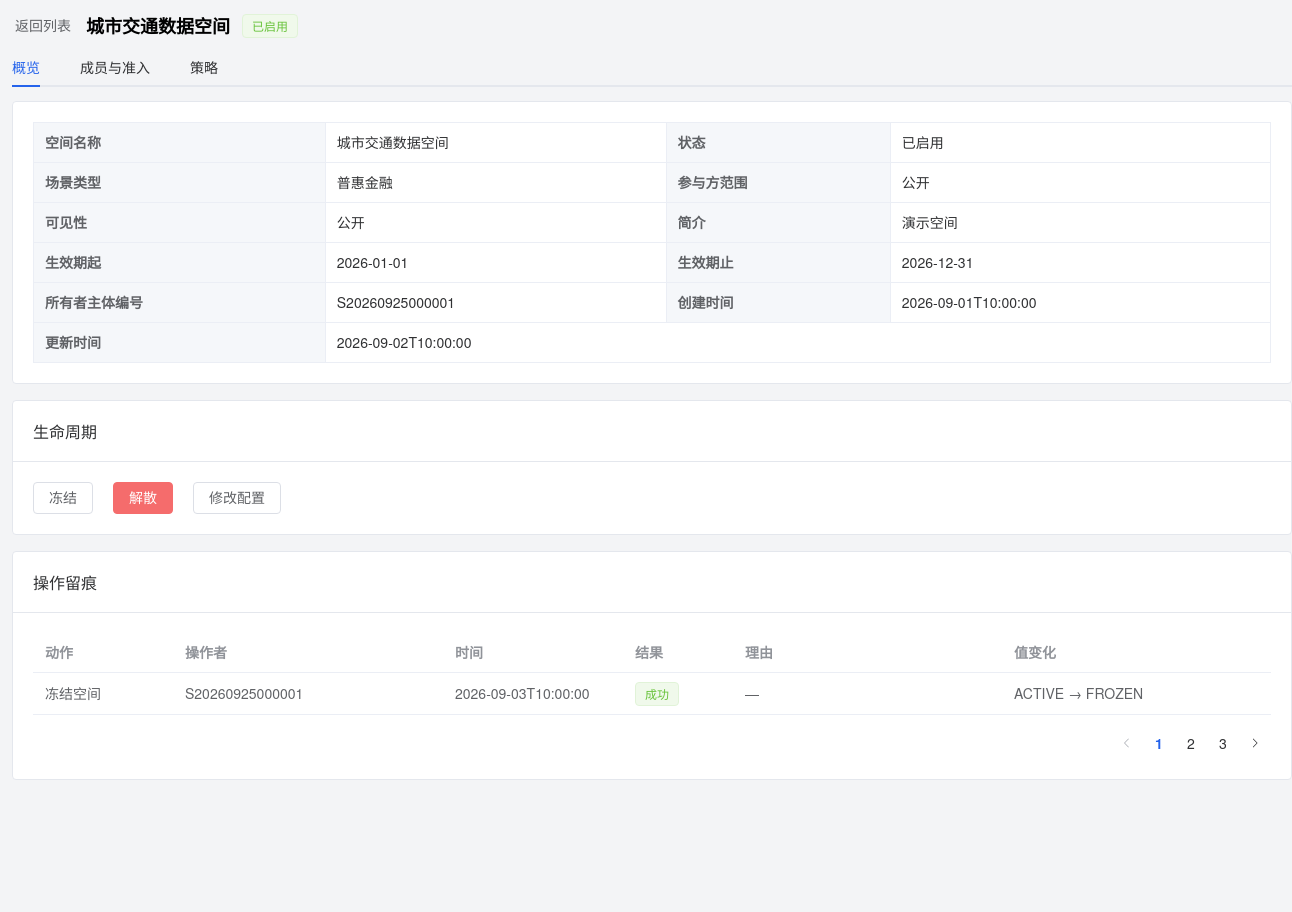
Test case: 空态与分页（R6 / §7 T5、§8.3、§8.7） › 操作留痕分页越界（1000C0001）：文案原样展示且表格保持原数据（不乐观更新）（§8.7）
Click the button with class "btn-next".
click(1255, 743)  # box top-left (1239, 727), bottom-right (1271, 759)
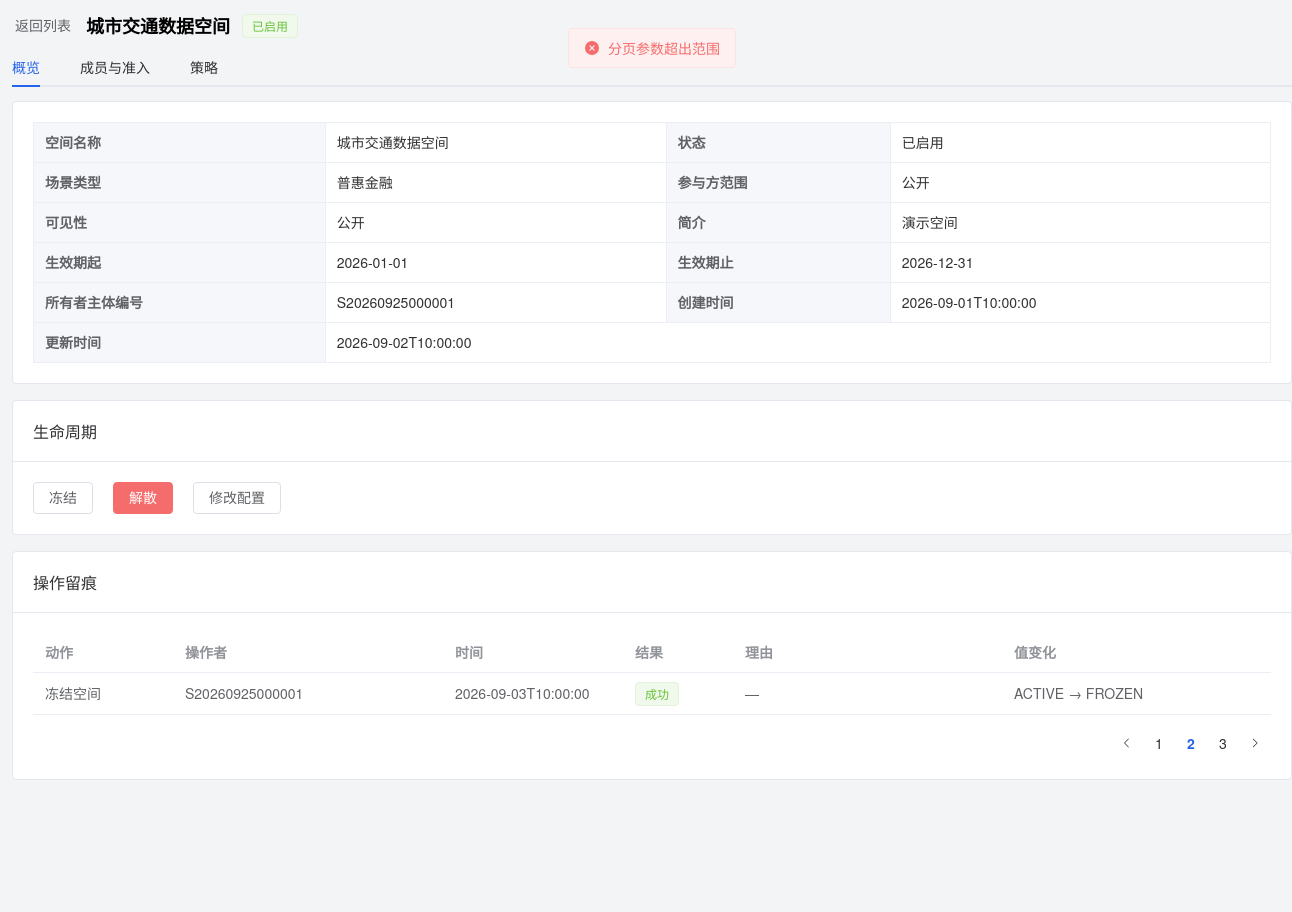
Expected: the text "ACTIVE → FROZEN" is shown, top-left (1014, 683), bottom-right (1143, 703)
Expected: the text "分页参数超出范围" is shown, top-left (608, 41), bottom-right (720, 55)
